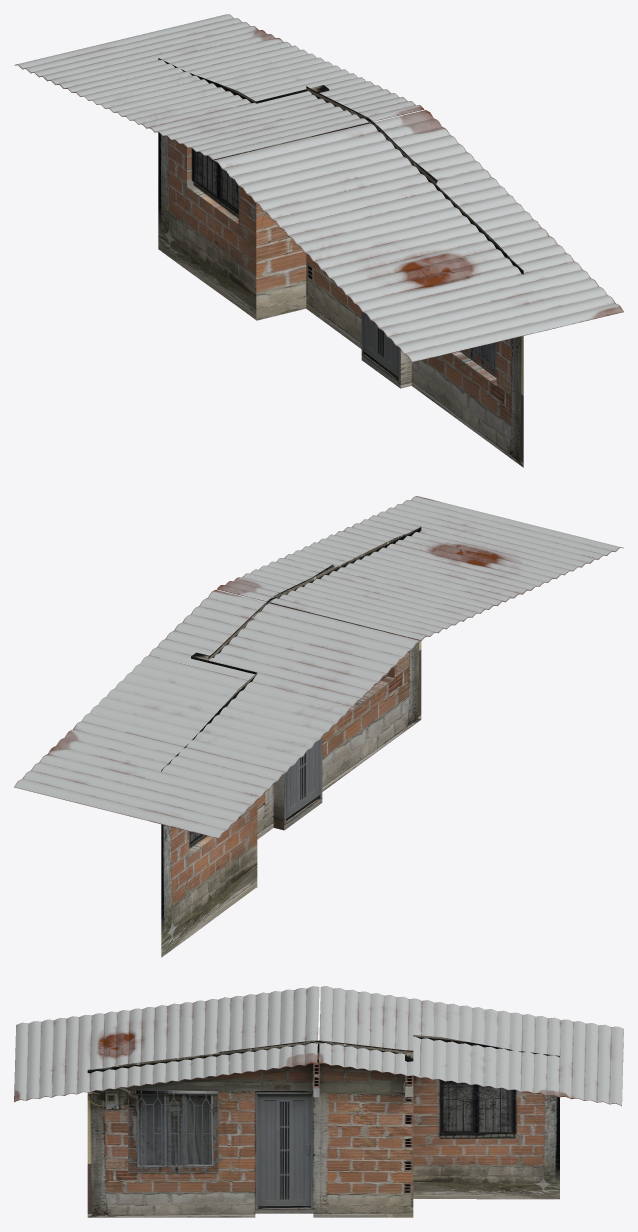
File: CasaPlanoPrueba.fbx
3 views of the same model, one above another, from view 1: azimuth 30°, elevation 25°; view 2: azimuth 150°, elevation 25°; view 3: azimuth 270°, elevation 25° (orthographic). The views are drawn at different scales.
Visible parts, largest first — view 1: Techo casa 02.001, Empty.001; view 2: Techo casa 02.001, Empty.001; view 3: Empty.001, Techo casa 02.001.
Boxes of the visible parts, <box> form: Techo casa 02.001: <box>14,14,623,362</box>; Empty.001: <box>158,58,523,467</box>; Techo casa 02.001: <box>14,496,623,838</box>; Empty.001: <box>161,526,421,957</box>; Empty.001: <box>87,1035,559,1217</box>; Techo casa 02.001: <box>14,986,623,1105</box>.
Size of the model in its own units: 1599 by 1657 by 5165.
